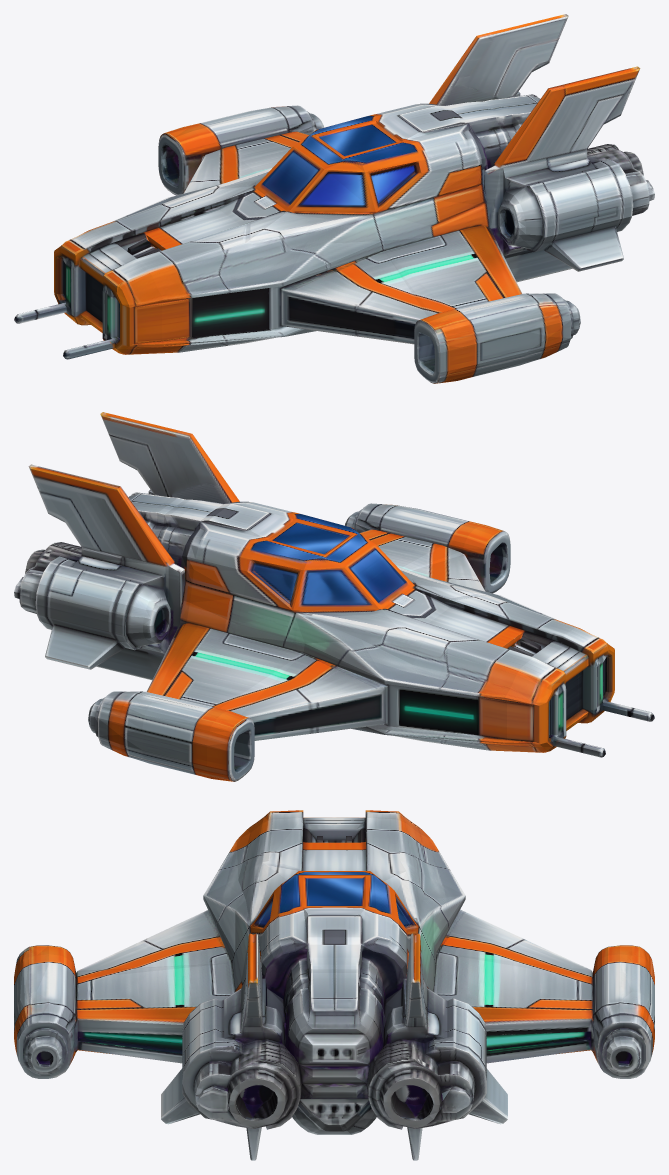
File: Meshy_AI_Emerald_Void_Intercep_0714135840_texture.glb
The picture shows the model from 3 angles, top to bottom: view 1: azimuth 30°, elevation 25°; view 2: azimuth 150°, elevation 25°; view 3: azimuth 270°, elevation 25°; orthographic projection. The views are drawn at different scales.
Bounding box in the file's own units: 1.91 × 0.6106 × 1.66.
Materials: 1 (1 with a texture image).
